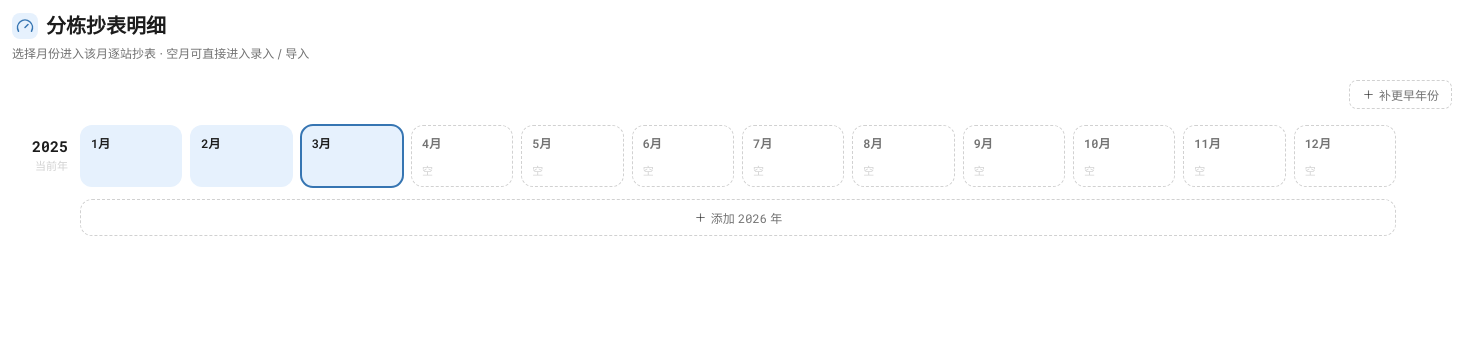
Test: 光伏分栋抄表 · 取数失败时不许猜 › ❗读数挂了 → 导出按钮禁用
Click the button with class "bmm-card" showing "3月": (352,156) [301,125,403,187]
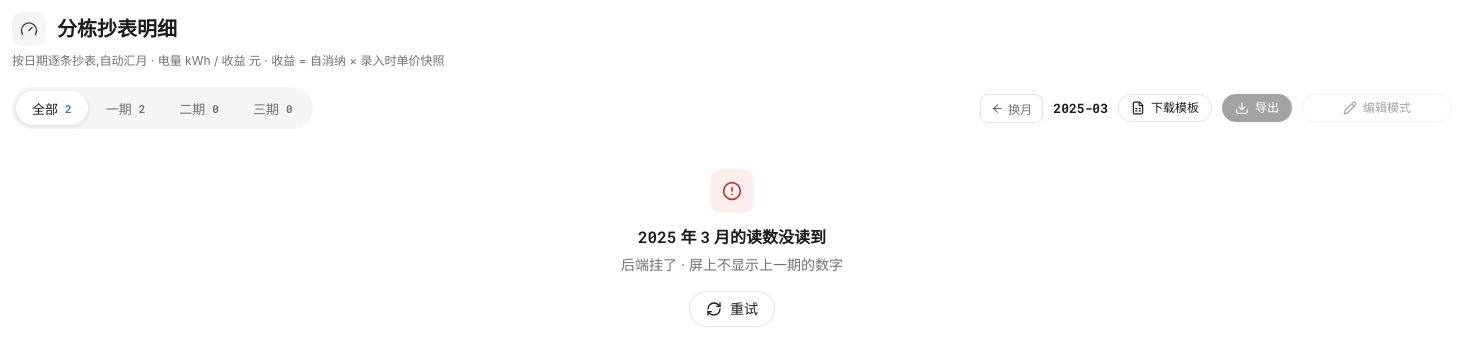
Now the button "导出" is disabled, box [1222,94,1292,122]
